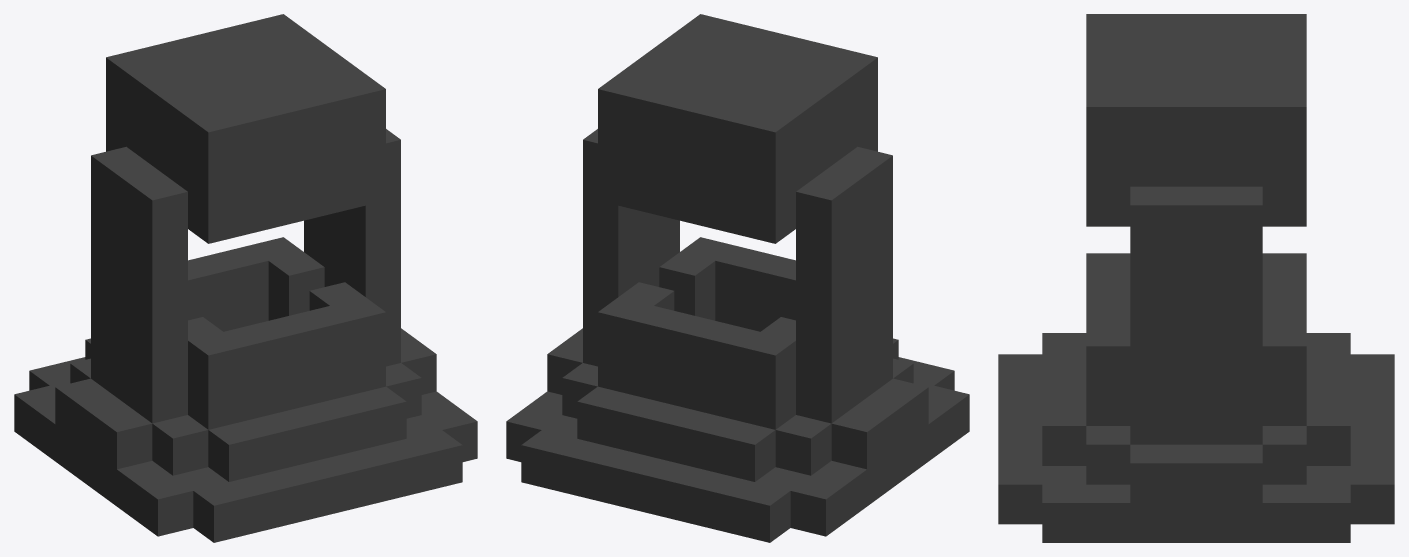
Rendered from cristais-11.obj.
3 views of the same model, side by side, from view 1: azimuth 30°, elevation 25°; view 2: azimuth 150°, elevation 25°; view 3: azimuth 270°, elevation 25° (orthographic). The views are drawn at different scales.
Size of the model in its own units: 0.9 by 1 by 0.9.
Materials: 1 (1 with a texture image).
